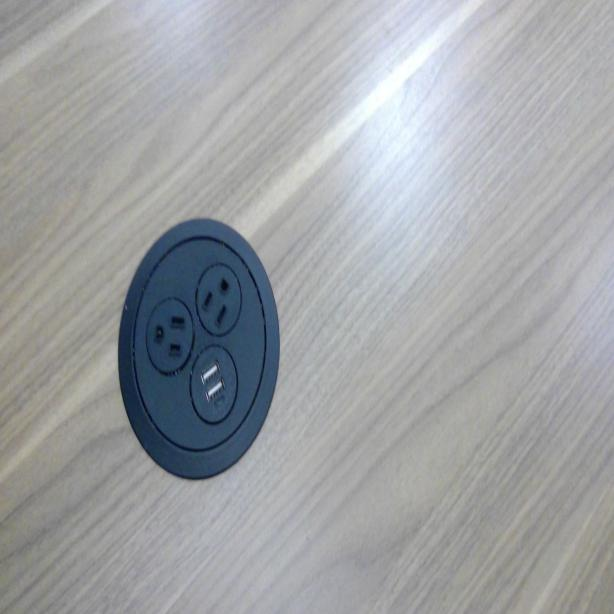typeb: (150, 301, 189, 362), (200, 264, 235, 328)
